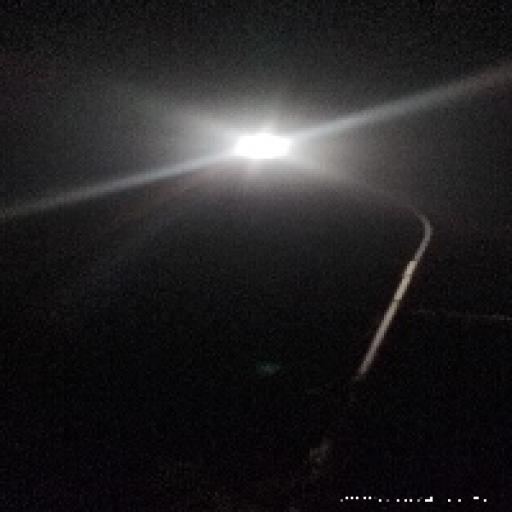Working: (226, 123, 296, 174)
